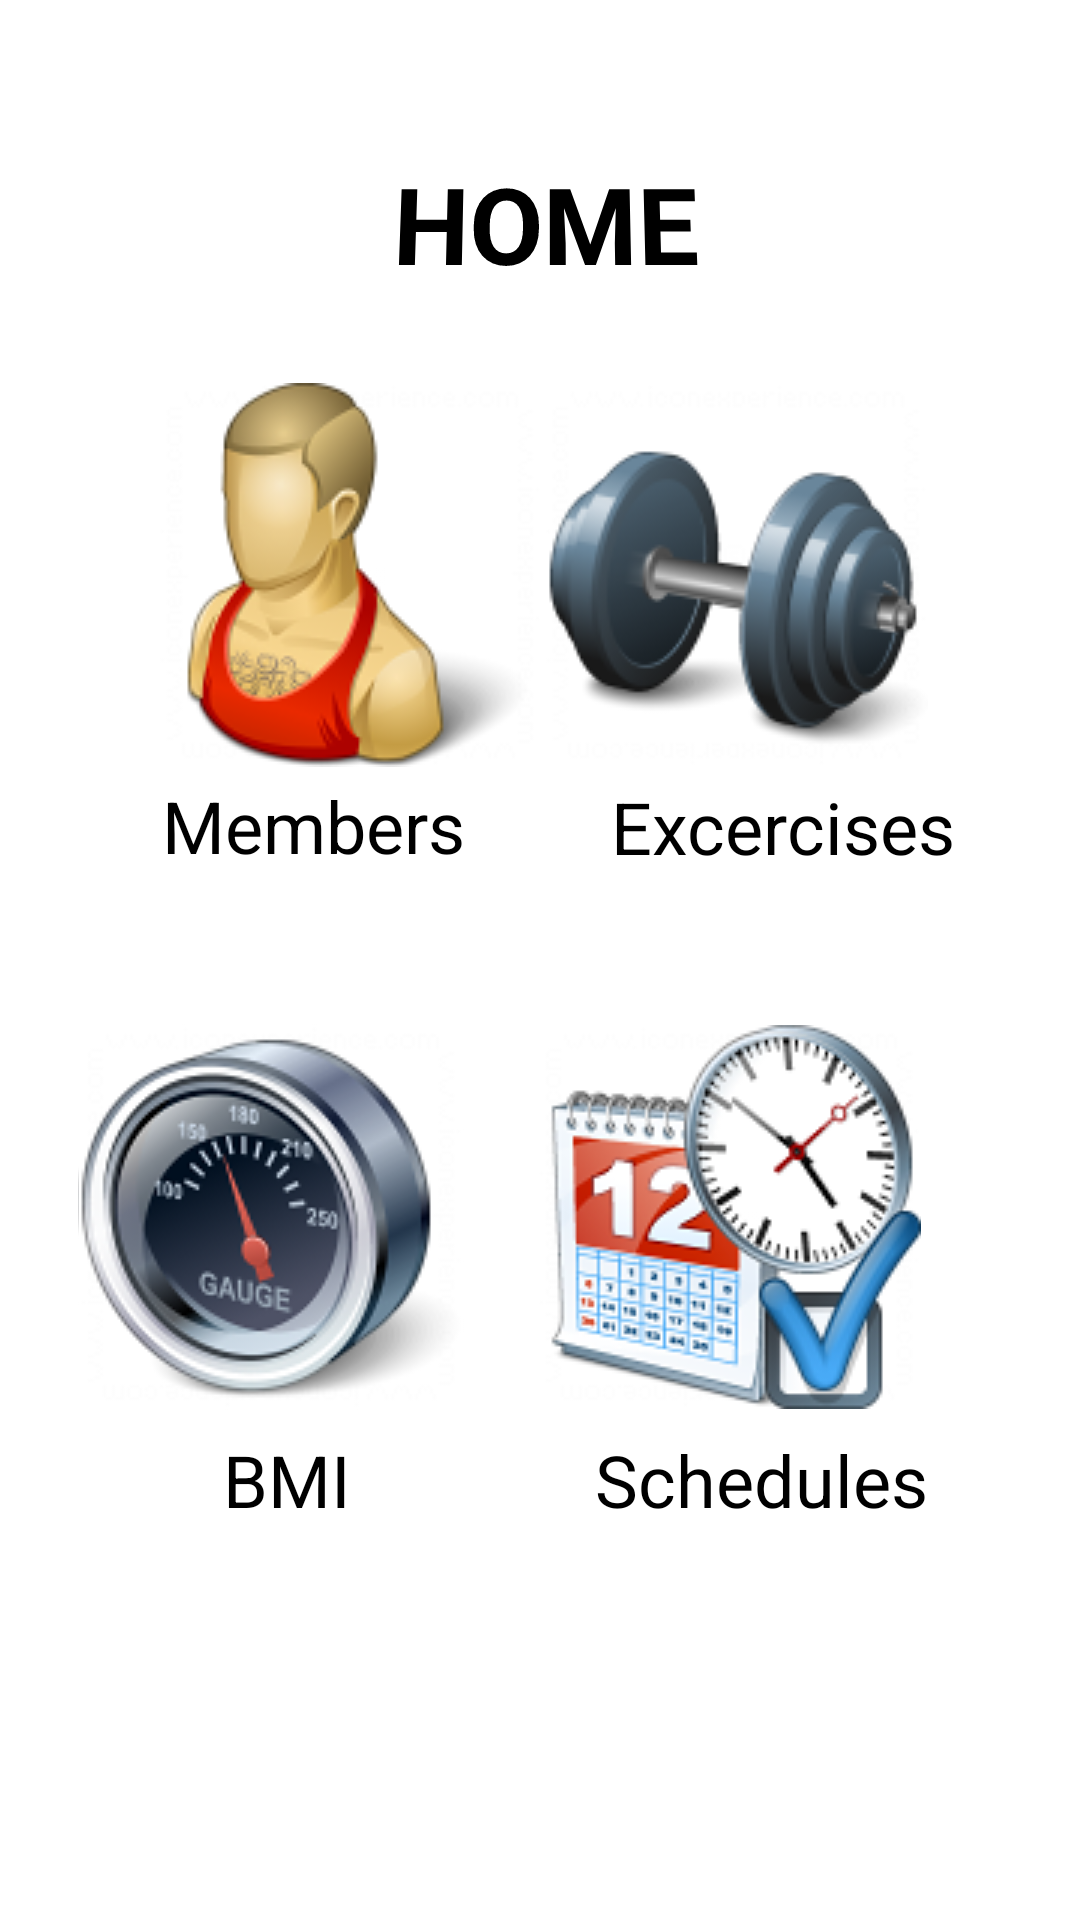

Icons on this 1080×1920 Android screen, each with the point to tap as [x,y]:
gauge: [254,1217]
